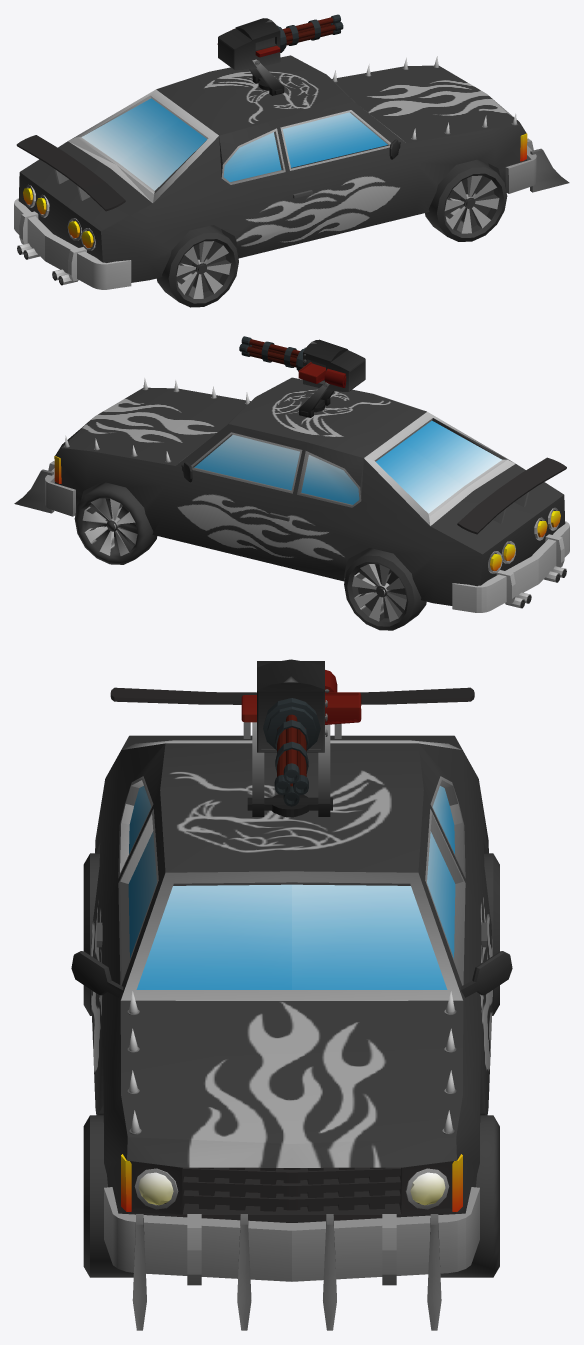
Rendered from car 5.fbx.
The picture shows the model from 3 angles, top to bottom: view 1: azimuth 30°, elevation 25°; view 2: azimuth 150°, elevation 25°; view 3: azimuth 270°, elevation 25°; orthographic projection. The views are drawn at different scales.
Visible parts, largest first — view 1: car, wheel.003, wheel.002, car.001; view 2: car, wheel.001, wheel, car.001; view 3: car, car.001, wheel.003, wheel.001, wheel.002, wheel.
Boxes of the visible parts, box(x1,y1,x2,y2) form: car: box(14, 55, 569, 289); wheel.003: box(425, 159, 507, 241); wheel.002: box(157, 225, 238, 307); car.001: box(217, 14, 343, 70); car: box(14, 377, 569, 612); wheel.001: box(74, 482, 157, 564); wheel: box(344, 548, 426, 630); car.001: box(239, 336, 365, 391); car: box(71, 687, 512, 1330); car.001: box(241, 659, 361, 806); wheel.003: box(83, 1115, 133, 1277); wheel.001: box(440, 1115, 499, 1277); wheel.002: box(83, 853, 99, 1015); wheel: box(484, 853, 499, 1015).
Bounding box in the file's own units: 418 × 180 × 163.
Materials: 2 (2 with a texture image).
